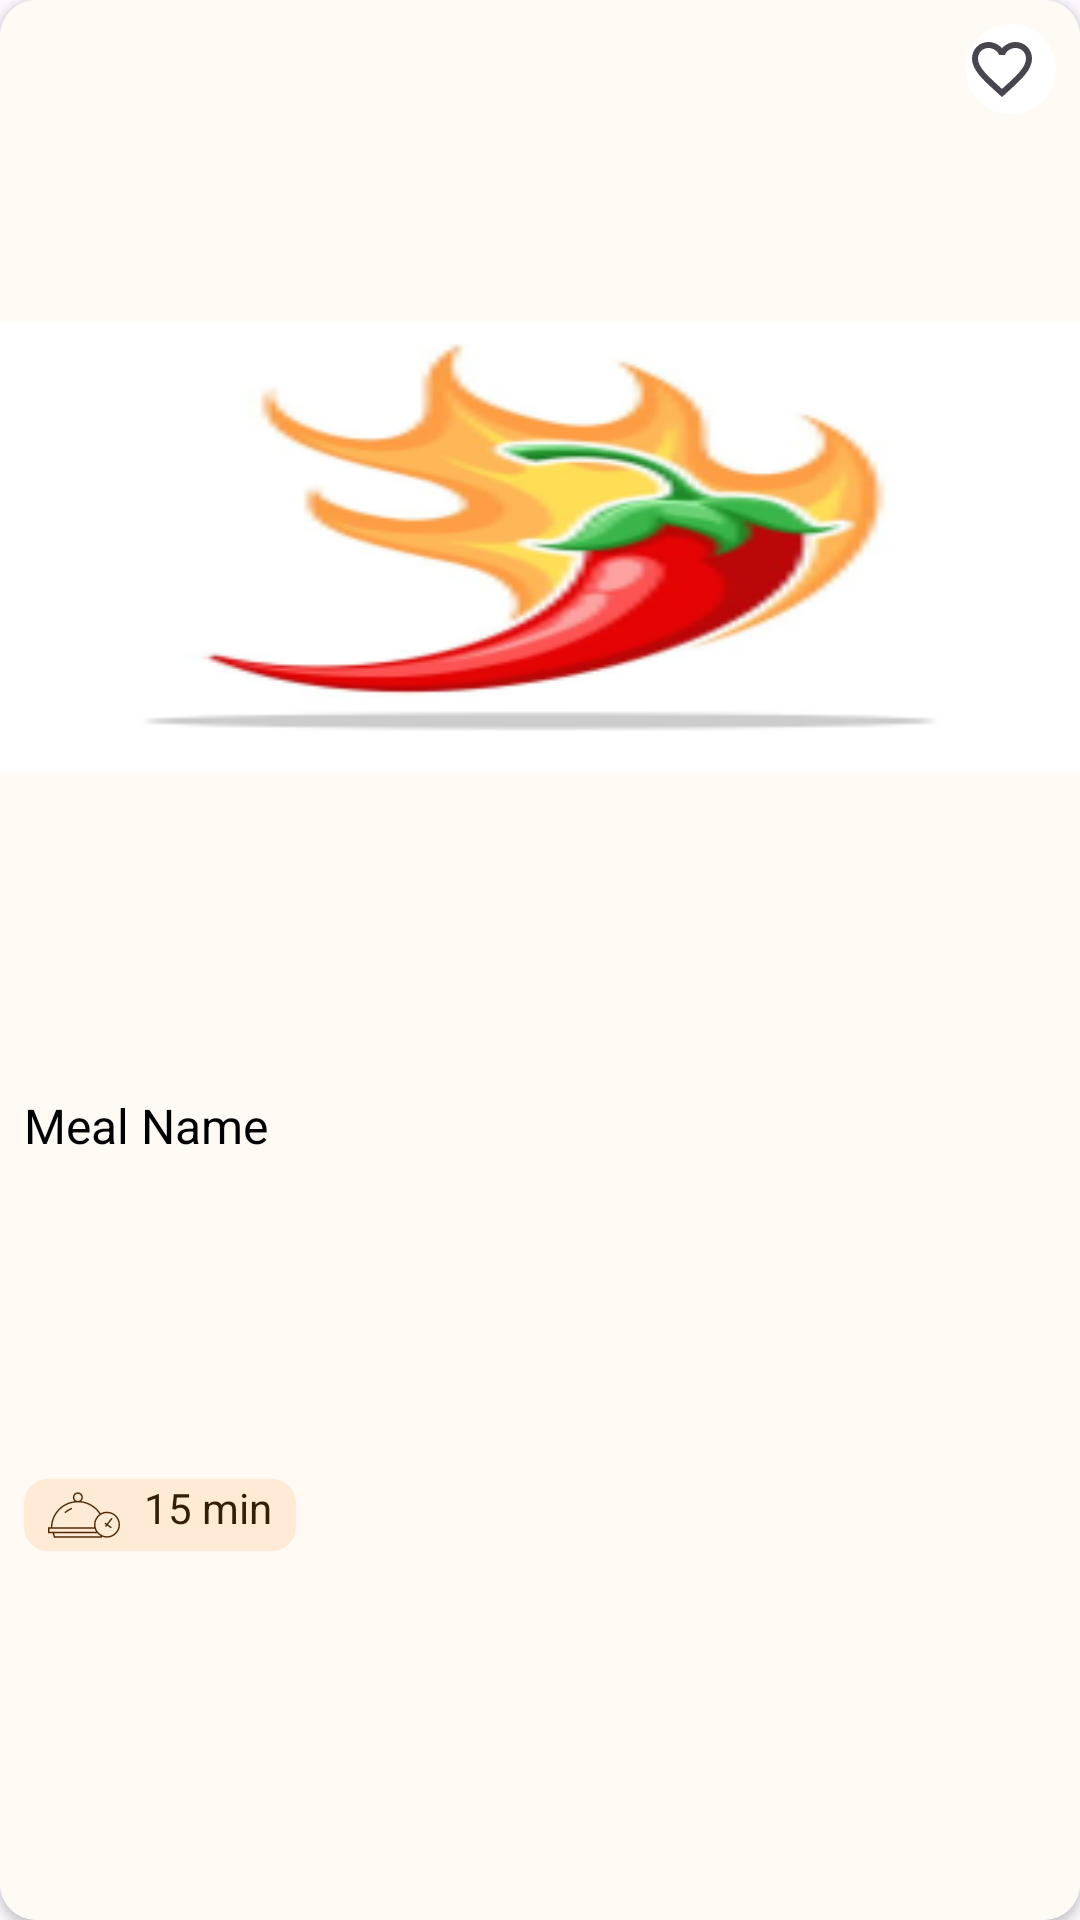

Icon click points for this 1080×1920 phone screenshot, format point (x, y):
heart: point (1011, 69)
